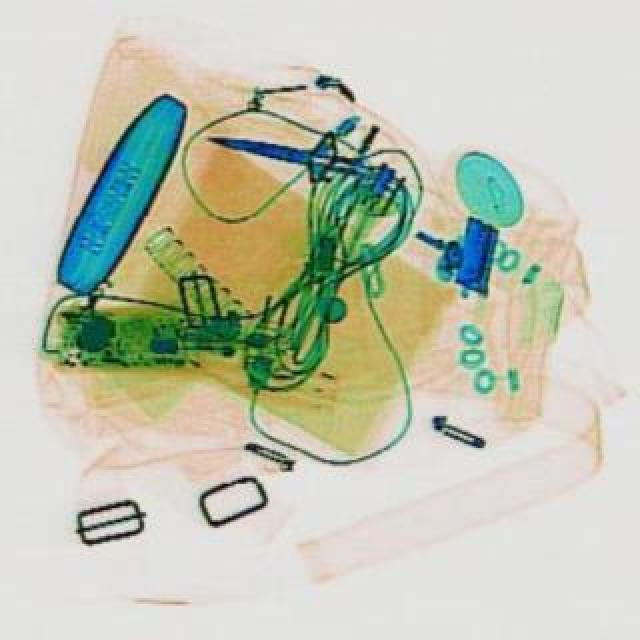knife: (200, 106, 380, 190)
